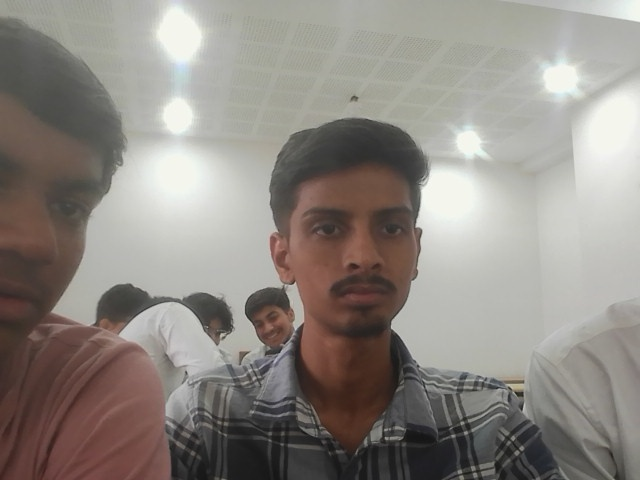light_on: (150, 5, 214, 144), (531, 52, 586, 103), (450, 122, 487, 160), (629, 8, 640, 25)
person: (0, 14, 172, 479), (262, 122, 442, 462), (108, 281, 227, 409), (181, 289, 241, 363), (241, 287, 293, 361), (181, 290, 234, 346)
